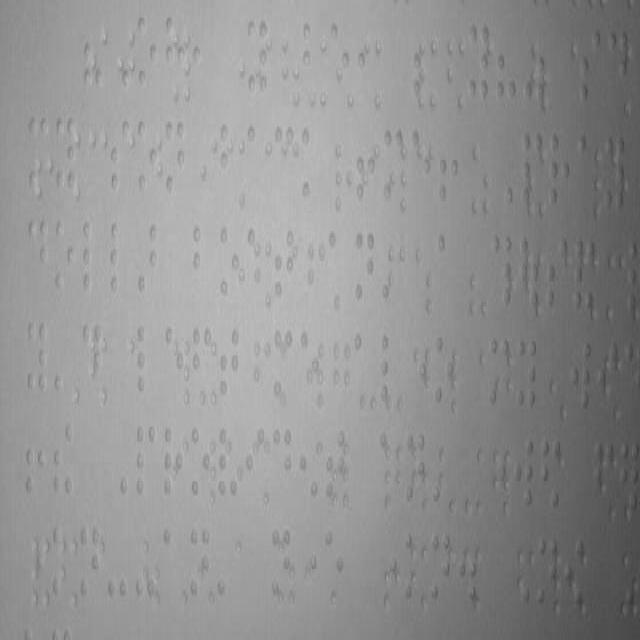braiile: (546, 127, 574, 216), (300, 122, 326, 206), (245, 116, 269, 204), (164, 110, 188, 197), (568, 336, 594, 416), (136, 12, 160, 94), (54, 115, 78, 196), (136, 116, 160, 196), (25, 318, 49, 398), (78, 520, 102, 600), (577, 27, 601, 106), (468, 21, 492, 99), (428, 526, 452, 604), (607, 24, 629, 109), (432, 331, 456, 407), (545, 232, 567, 314), (190, 323, 214, 397), (188, 423, 212, 497), (110, 116, 132, 196), (109, 218, 131, 298), (192, 220, 214, 300), (218, 220, 240, 300), (353, 330, 377, 403), (136, 326, 160, 398), (274, 223, 296, 301), (354, 228, 376, 306), (135, 421, 157, 499), (81, 215, 102, 296), (576, 131, 598, 207), (437, 231, 459, 307), (516, 336, 538, 412), (303, 15, 323, 96), (379, 330, 401, 403), (30, 216, 50, 296), (220, 323, 240, 401), (272, 423, 292, 501), (162, 523, 182, 601), (514, 433, 534, 509), (55, 218, 75, 293), (326, 525, 346, 599), (328, 229, 348, 300), (537, 536, 557, 606)
